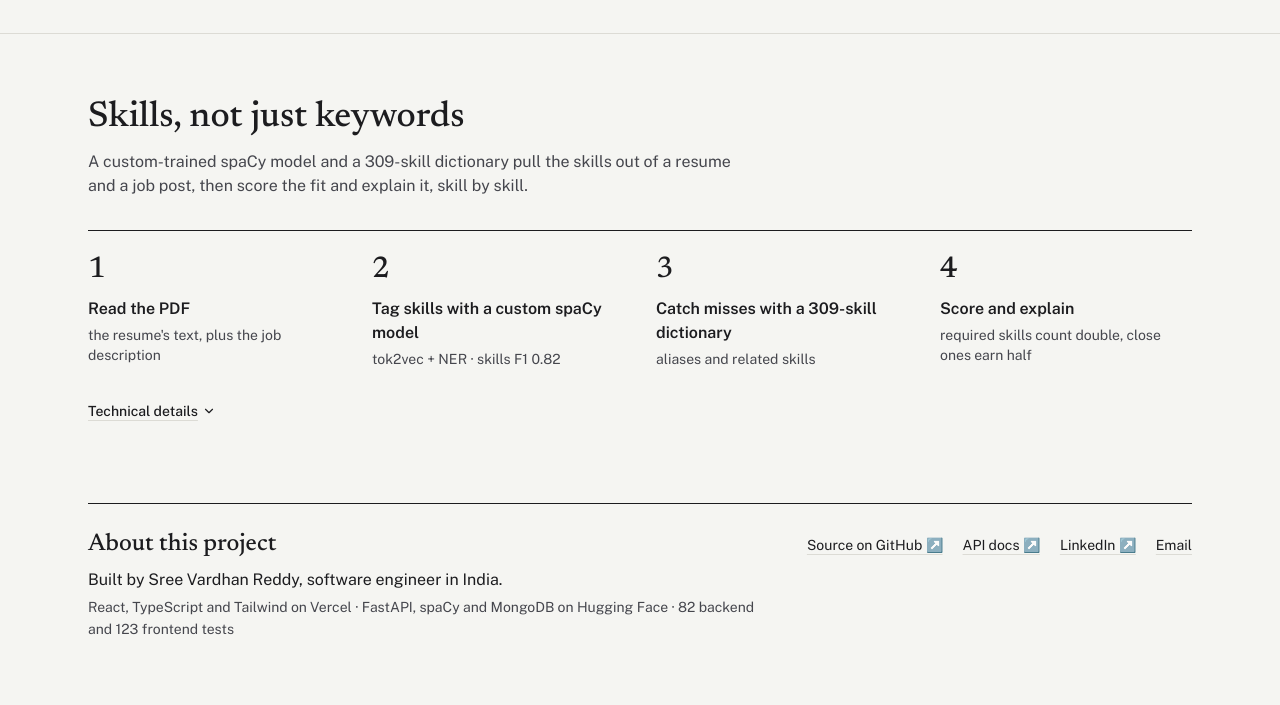
How it works shows the pipeline and keeps the stage details behind a toggle
(page scrolled)
expect the text "Found in the job" is not shown: met
What coordinates should you click on to do the following:
click the button "Technical details"
I would click on:
 (152, 410)
Its box is left=88, top=400, right=216, bottom=420.
(page scrolled)
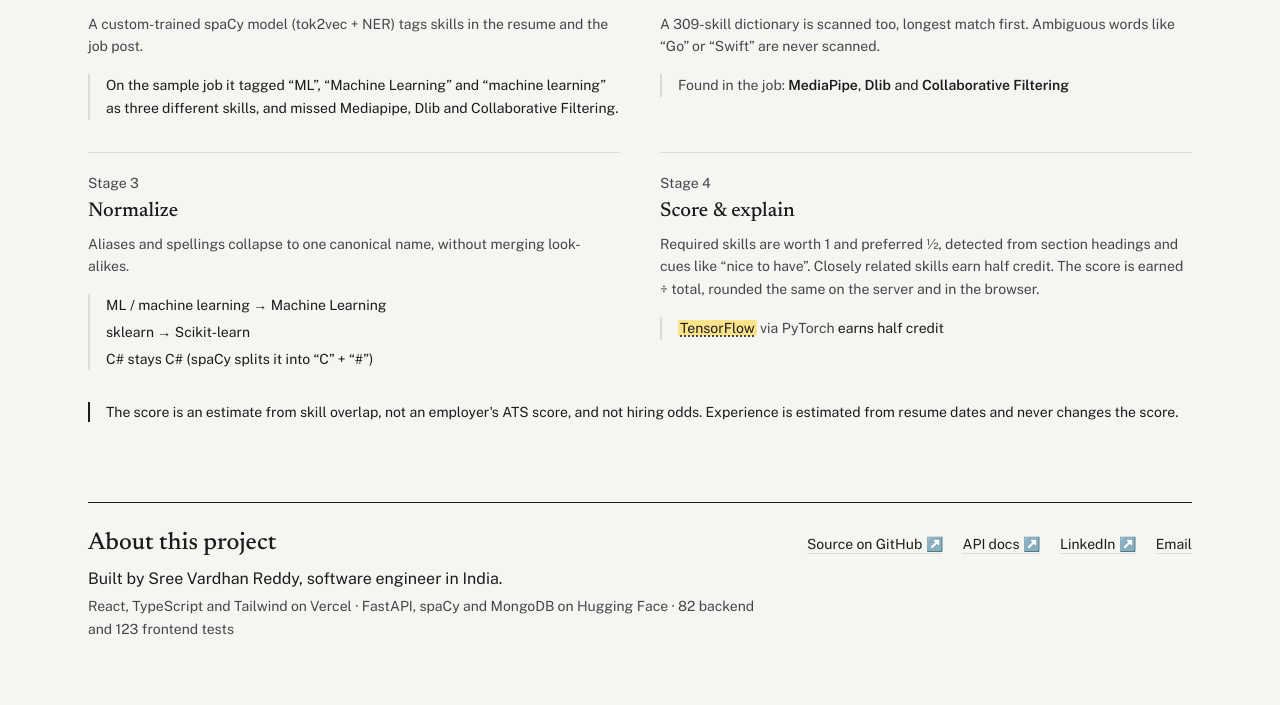
expect the text "Found in the job:" is shown: met, box left=678, top=77, right=785, bottom=93
expect the text "not an employer's ATS score, and not hiring odds" is shown: met, box left=106, top=404, right=1178, bottom=420
